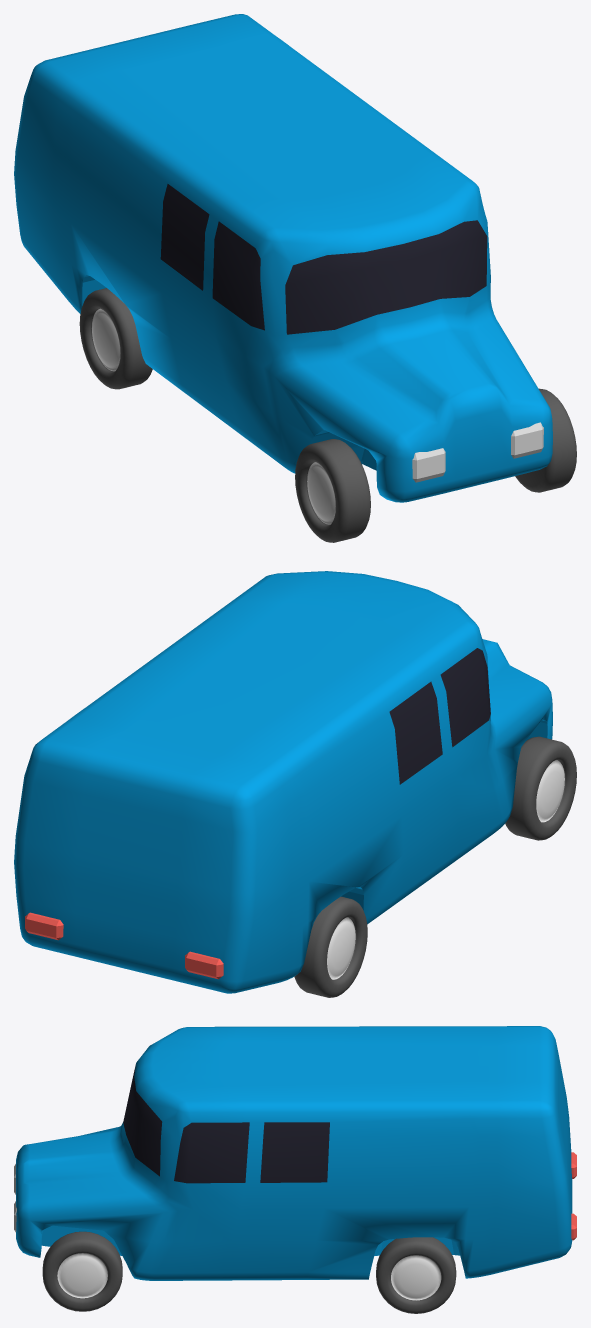
File: MaxCar.fbx
3 renders of one model, top to bottom at view 1: azimuth 30°, elevation 25°; view 2: azimuth 150°, elevation 25°; view 3: azimuth 270°, elevation 25°, orthographic. The views are drawn at different scales.
Parts seen in each view (by area): view 1: Body, Wheels.001, FrontLights.001; view 2: Body, Wheels.001, RearLights.001; view 3: Body, Wheels.001.
Part boxes in pixels (bbox=[...]): Body: bbox=[14, 14, 552, 502]; Wheels.001: bbox=[79, 288, 576, 542]; FrontLights.001: bbox=[412, 422, 543, 482]; Body: bbox=[14, 571, 552, 993]; Wheels.001: bbox=[294, 736, 576, 997]; RearLights.001: bbox=[25, 912, 223, 979]; Body: bbox=[16, 1026, 572, 1280]; Wheels.001: bbox=[42, 1231, 456, 1313].
Size of the model in its own units: 1.27 by 1.31 by 3.25.
